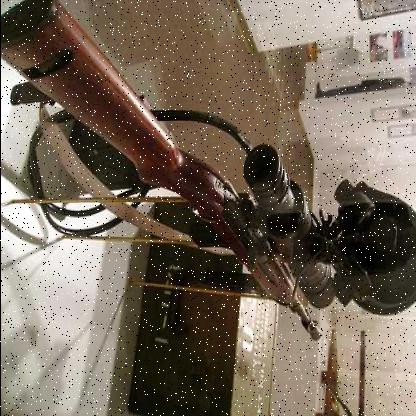rifle: (1, 0, 386, 383)
